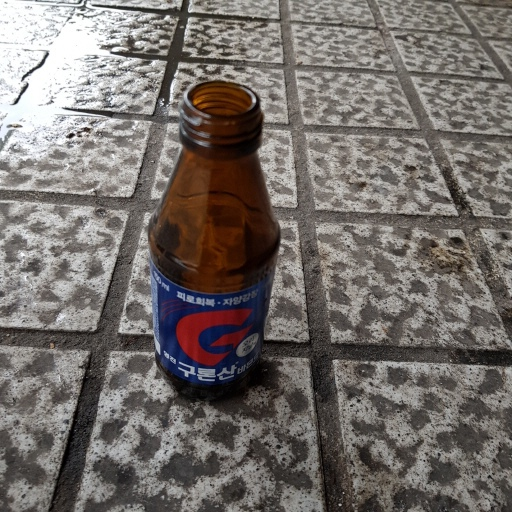Glass_3: (145, 80, 284, 398)
